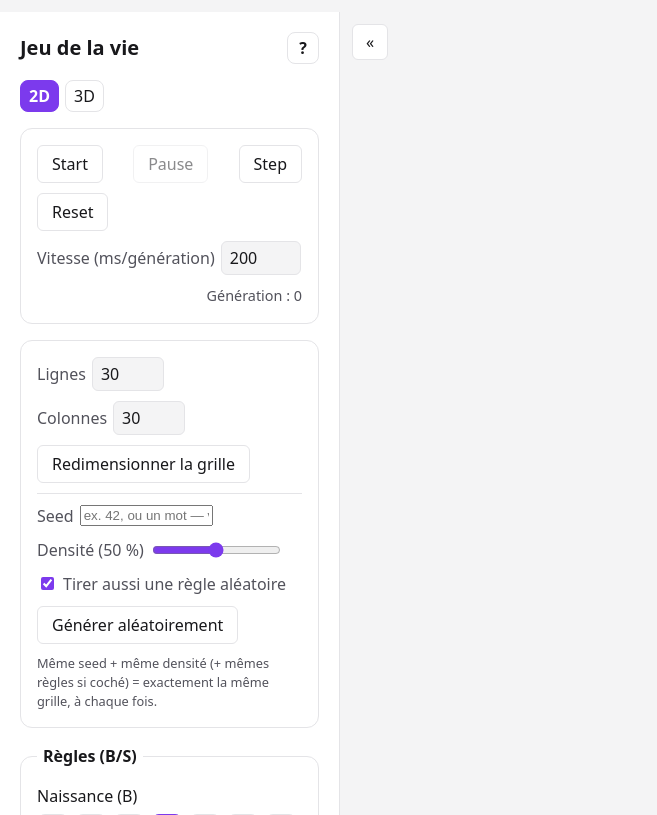
Test: App › switches to the 3D view, showing the 3D grid and its own settings/rules
This screenshot has width=657, height=815.
What coordinates should you click on to do the following:
click the button "3D"
I would click on:
 (84, 96)
Its box is x1=65 y1=80 x2=104 y2=112.
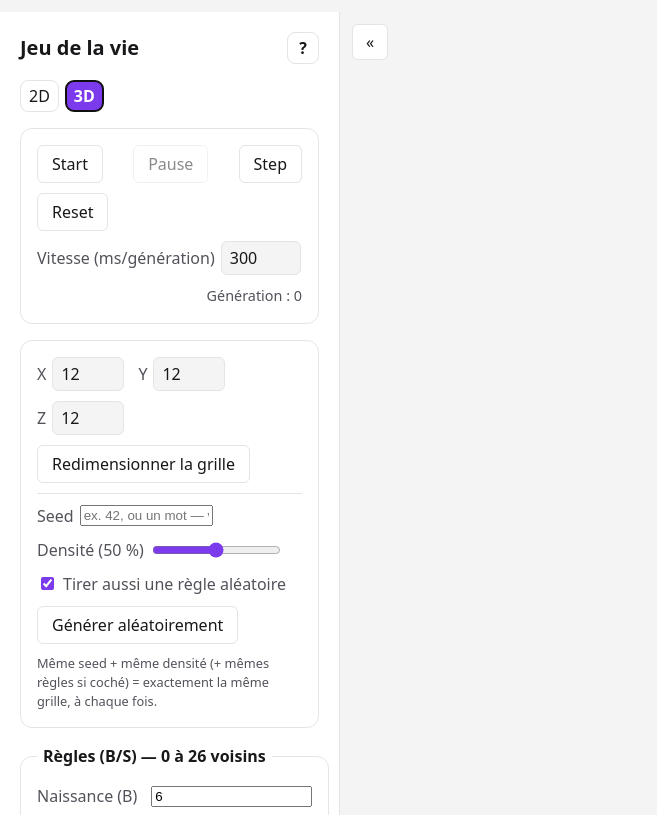
expect the element with test id "grid3d-canvas" is shown: met, box x1=340 y1=12 x2=640 y2=162
expect the field labelled "Naissance (B)" is shown: met, box x1=151 y1=786 x2=312 y2=807
